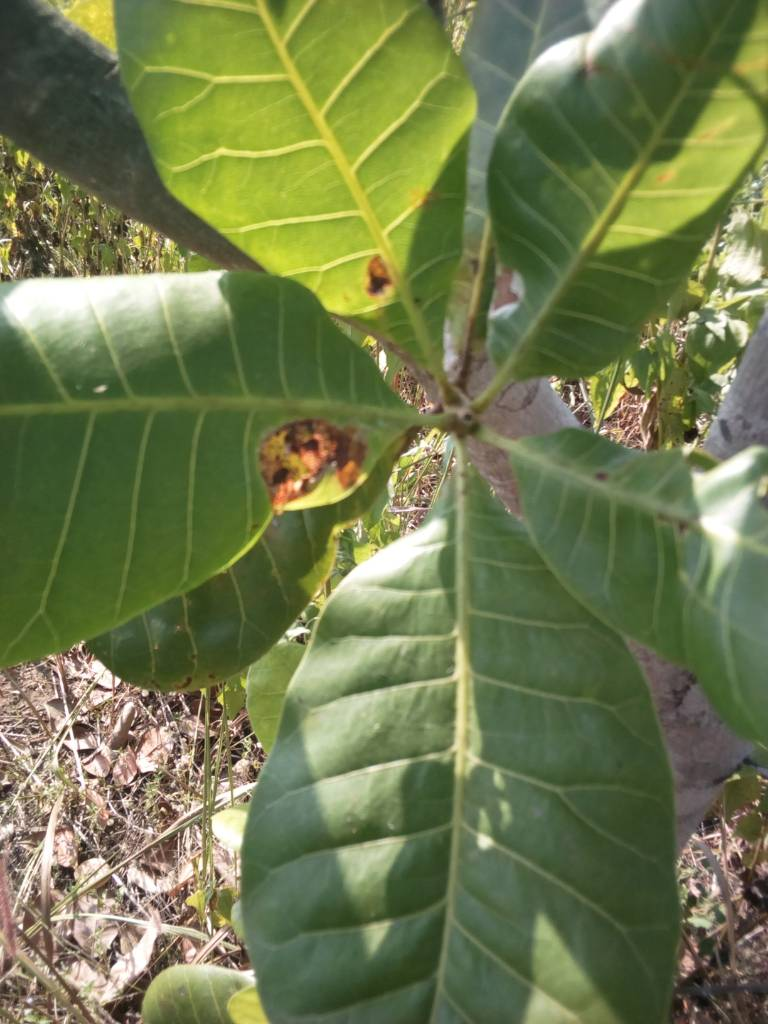Dysdercus wolkerii: (1, 252, 424, 671)
